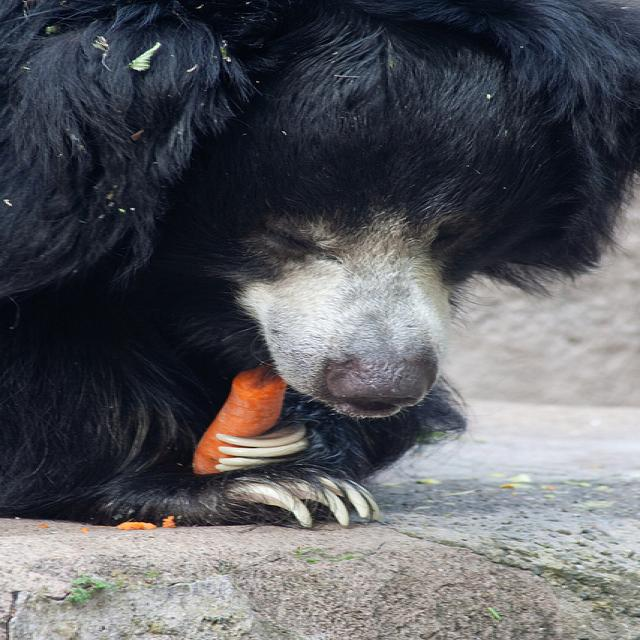Bear: (0, 0, 640, 520)
